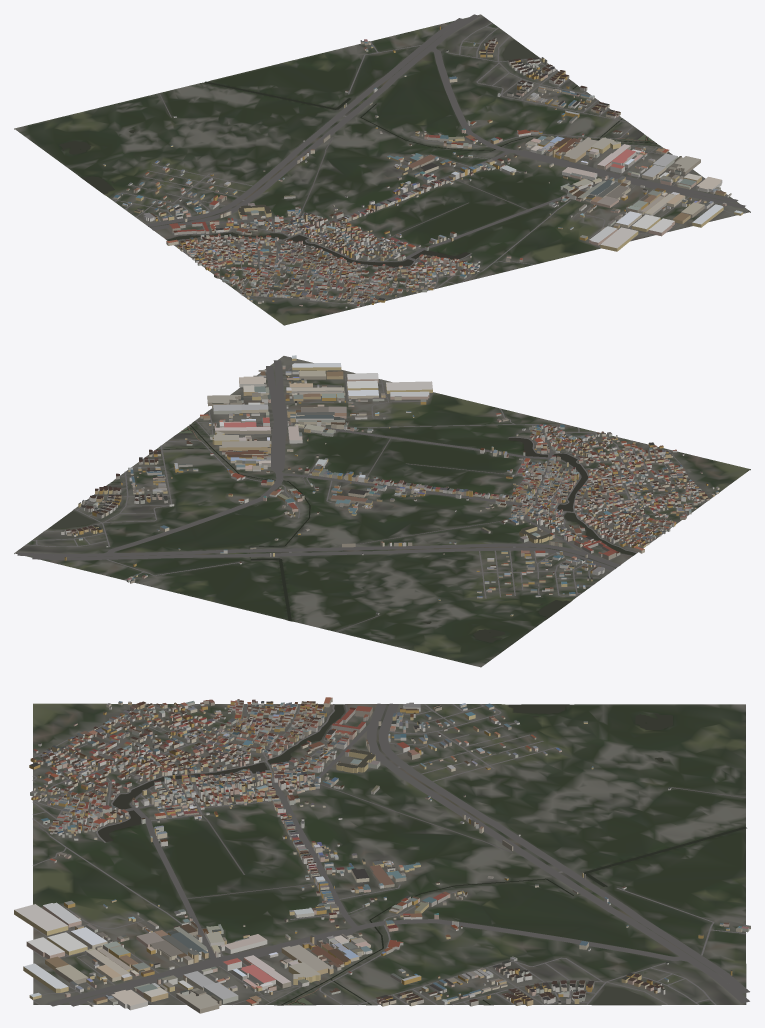
The picture shows the model from 3 angles, top to bottom: view 1: azimuth 30°, elevation 25°; view 2: azimuth 150°, elevation 25°; view 3: azimuth 270°, elevation 25°; orthographic projection. The views are drawn at different scales.
Parts seen in each view (by area): view 1: ground, buildings, roads, water; view 2: ground, buildings, roads, water; view 3: ground, buildings, roads, water.
Part boxes in pixels (x1,y1,x2,y2): ground: (14,14,750,325); buildings: (102,26,743,308); roads: (112,14,748,305); water: (59,39,656,267); ground: (14,356,750,667); buildings: (61,355,719,616); roads: (17,357,708,631); water: (48,424,635,642); ground: (33,703,746,1005); buildings: (14,697,750,1013); roads: (32,703,749,1006); water: (98,704,746,1005).
Size of the model in its own units: 1454 by 28.42 by 1449.
